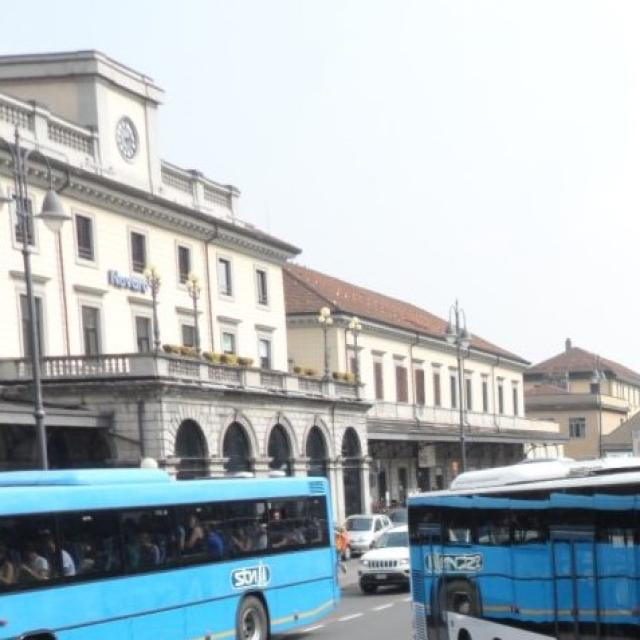bus: (0, 460, 342, 640), (396, 427, 640, 640)
car: (358, 523, 419, 593)
